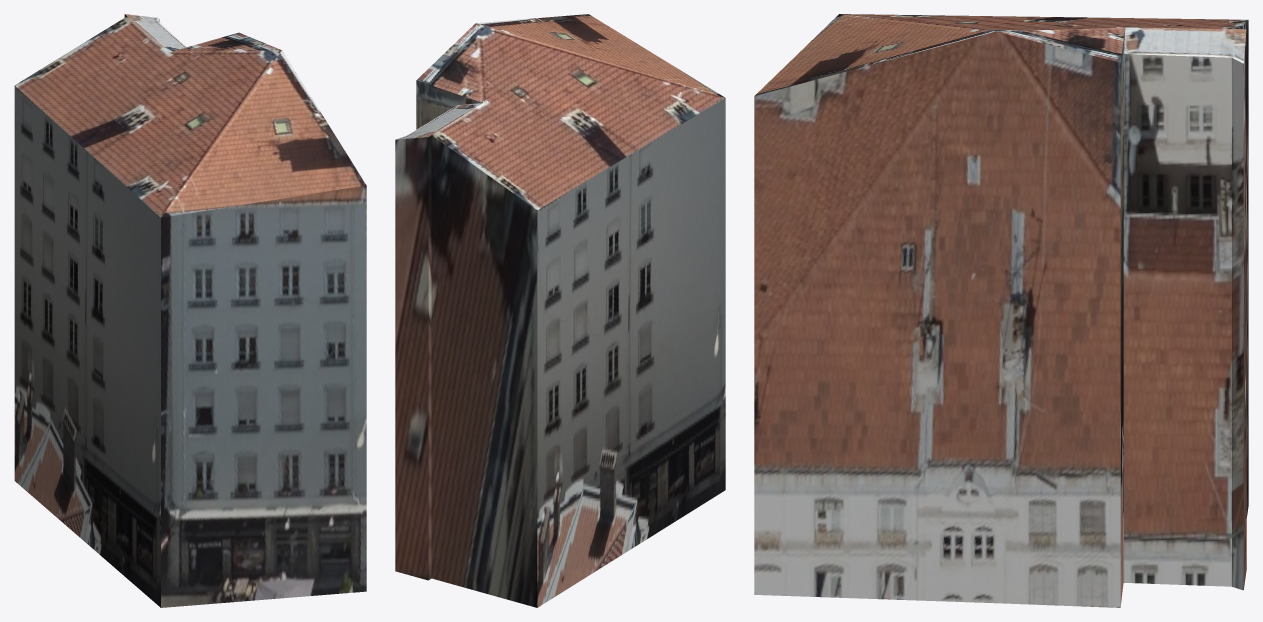
3 views of the same model, side by side, from view 1: azimuth 30°, elevation 25°; view 2: azimuth 150°, elevation 25°; view 3: azimuth 270°, elevation 25° (orthographic). The views are drawn at different scales.
Visible parts, largest first — view 1: Z_UP; view 2: Z_UP; view 3: Z_UP.
Boxes of the visible parts, box(x1,y1,x2,y2) form: Z_UP: box(14, 14, 366, 607); Z_UP: box(395, 14, 725, 607); Z_UP: box(754, 14, 1248, 607).
Size of the model in its own units: 11.6 by 26.78 by 21.
Materials: 2 (1 with a texture image).
